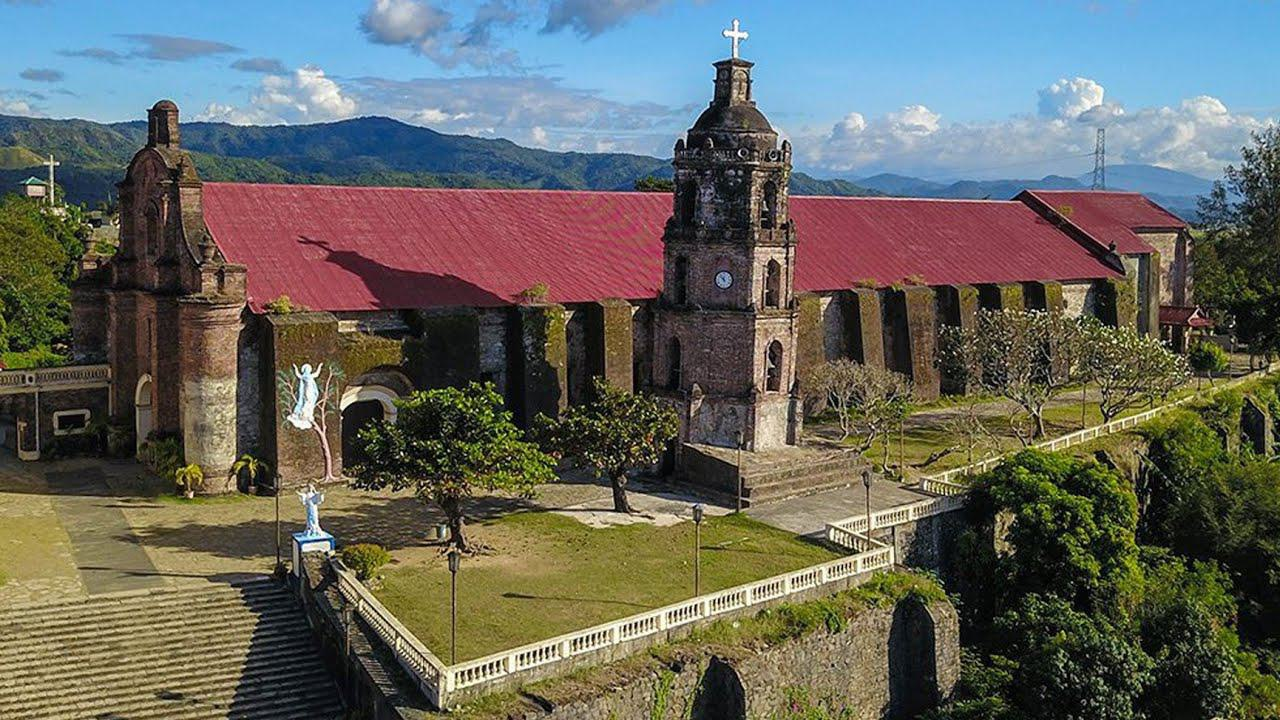santa_maria_church_santa_maria_ilocos_sur: (62, 90, 241, 511)
unfinished_paint: (165, 372, 256, 477)
water_damage_or_mold: (343, 341, 409, 371), (279, 325, 332, 360)
